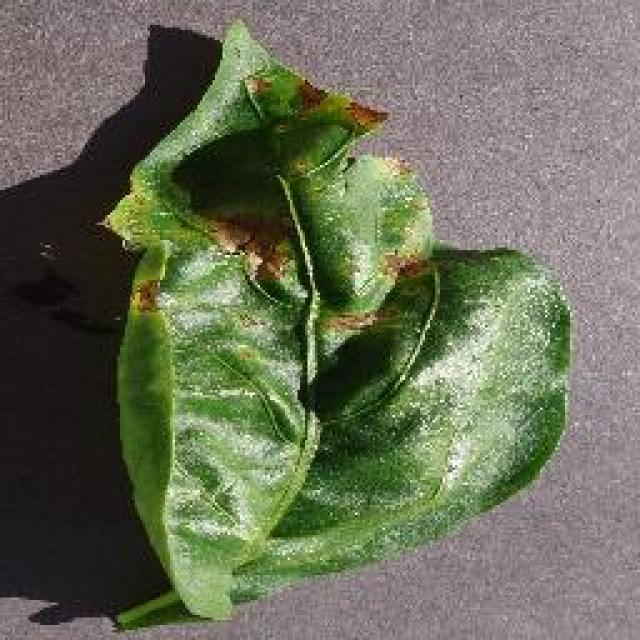Chilli_Bacterial_Spot: (97, 15, 575, 627), (100, 15, 438, 335), (298, 150, 438, 318), (240, 65, 390, 140), (208, 210, 298, 290), (340, 95, 390, 135), (290, 75, 328, 113), (128, 275, 162, 315), (243, 70, 275, 102)
